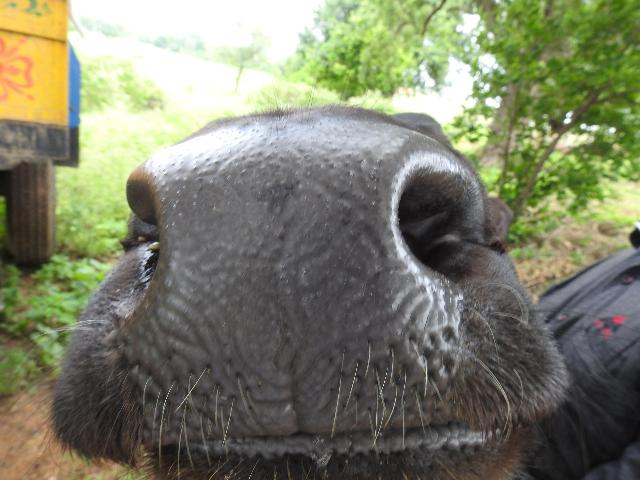Muzzle: (178, 154, 396, 404)
